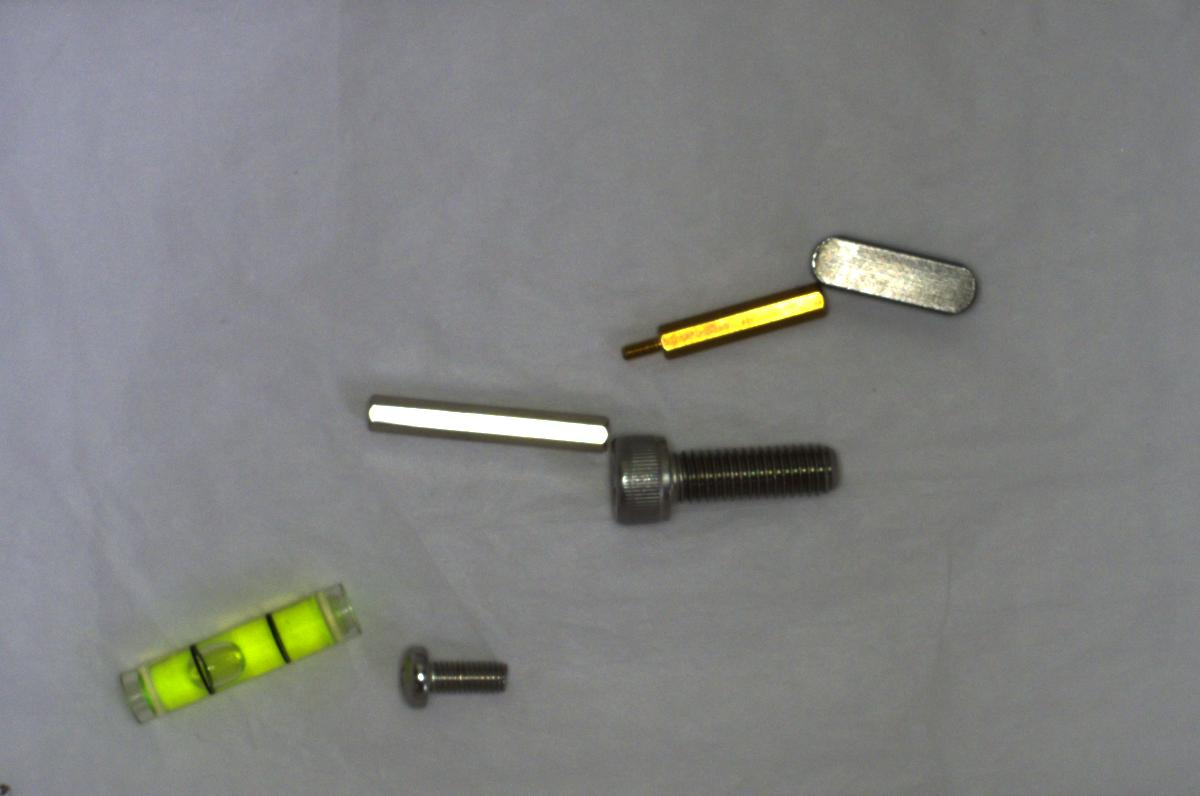Double hexagonal column: (355, 389, 618, 459)
Hexagon pillar: (617, 285, 834, 362)
Hexagon screw: (593, 425, 853, 526)
Horizontal bubble: (106, 576, 365, 729)
Keybar: (802, 232, 986, 314)
Round head screw: (390, 639, 512, 715)
